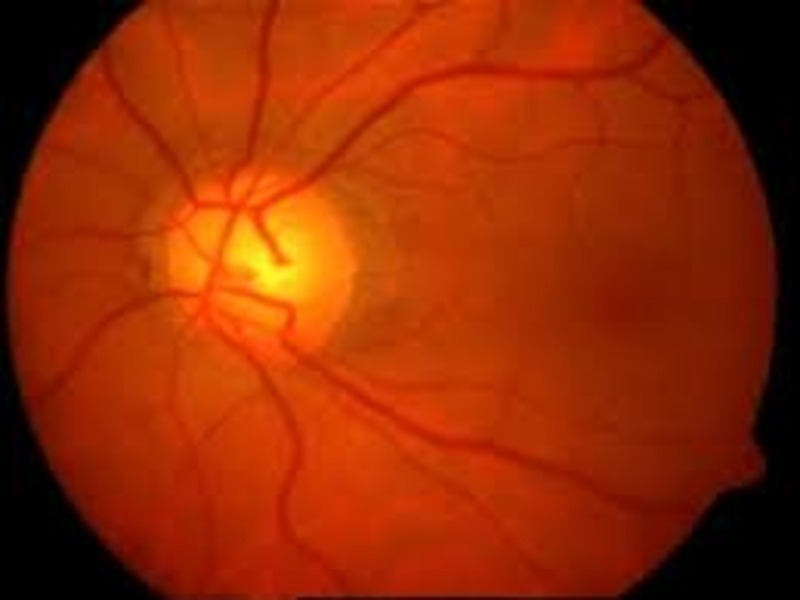Optic Cup: (240, 229, 301, 286)
Optic Disc: (166, 159, 354, 361)
